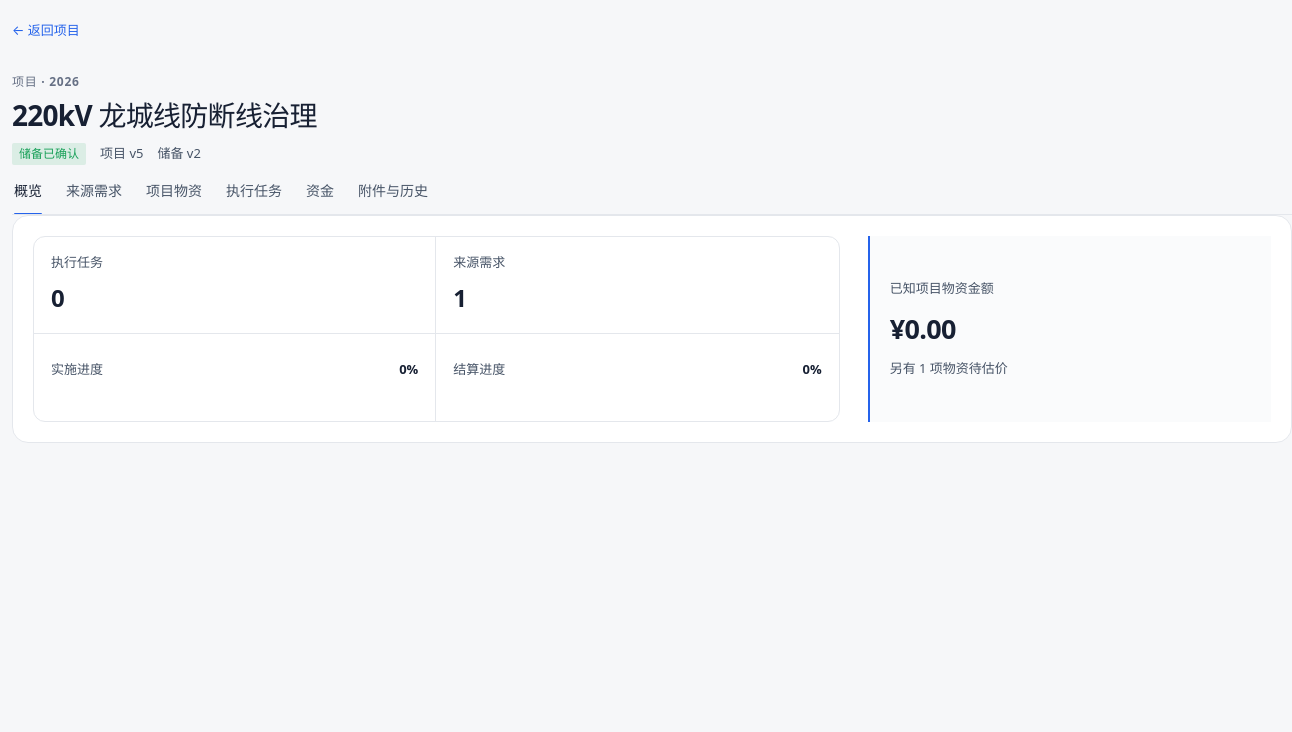
Test: ProjectDetailView project release › keeps project attachments readable but hides upload controls from readonly users
Click the button with test id "project-tab-history". click: click(393, 191)
box: [358,169,428,214]
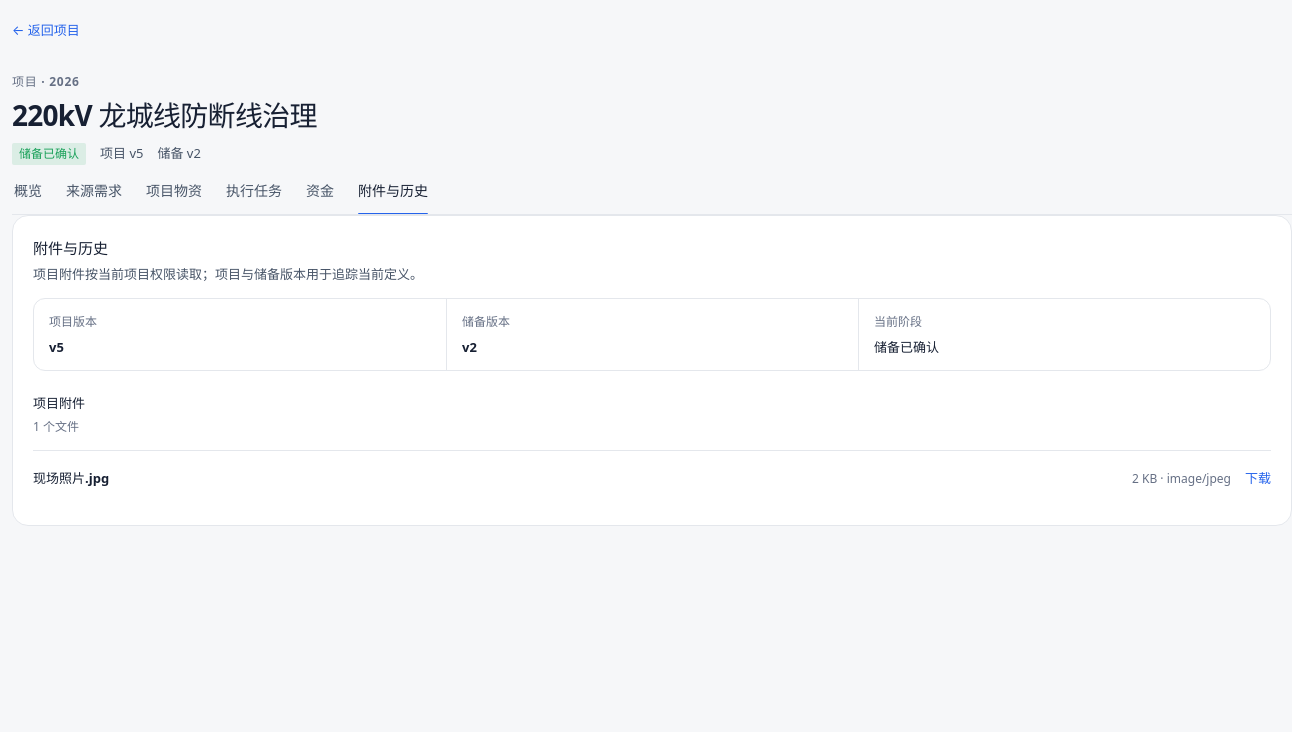
Check: the text "现场照片.jpg" is shown, box [33,469,109,487]
